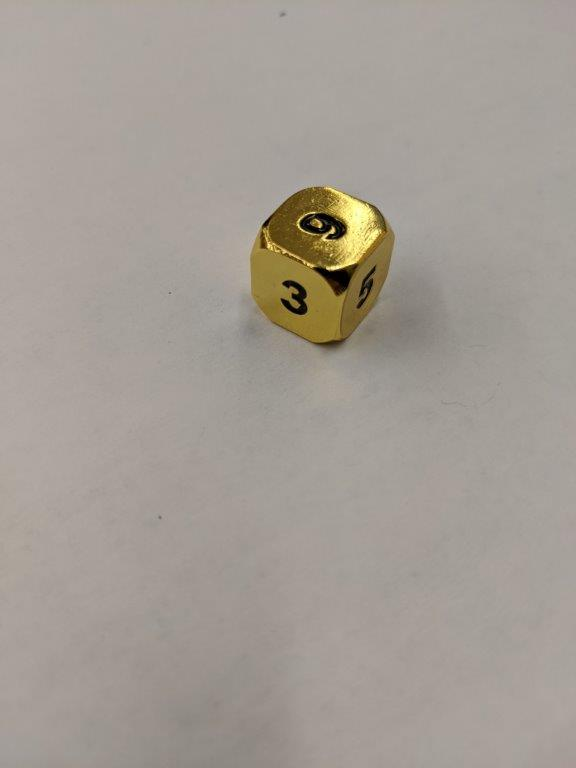d6-6: (250, 185, 395, 347)
